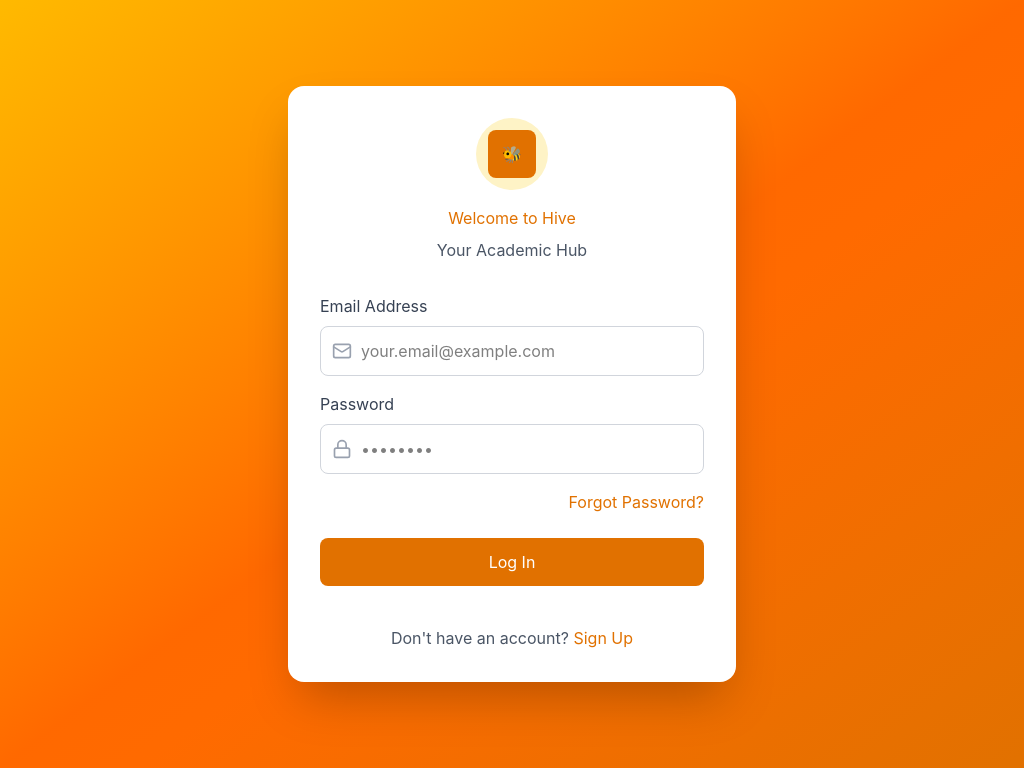
Test case: LoginPage Component › Login Flow › should show loading state during login
Type "test@example.com" into the field labelled "Email Address" at [512, 351], box left=320, top=326, right=704, bottom=376
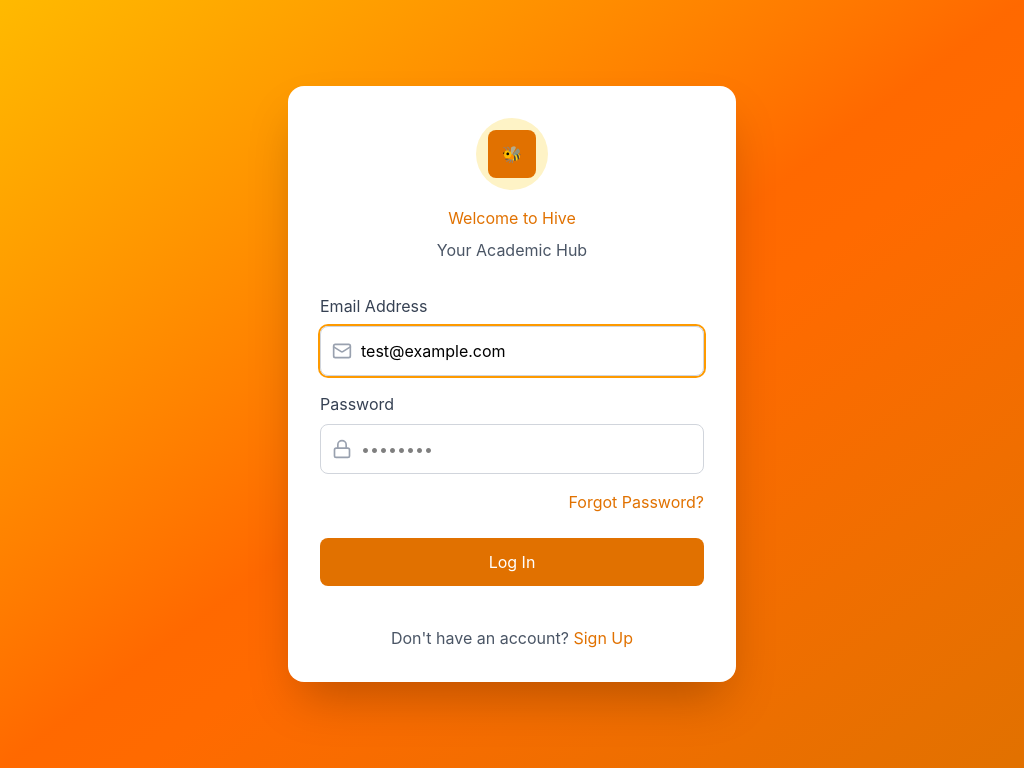
Type "password123" into the password field labelled "Password" at [512, 449], box left=320, top=424, right=704, bottom=474
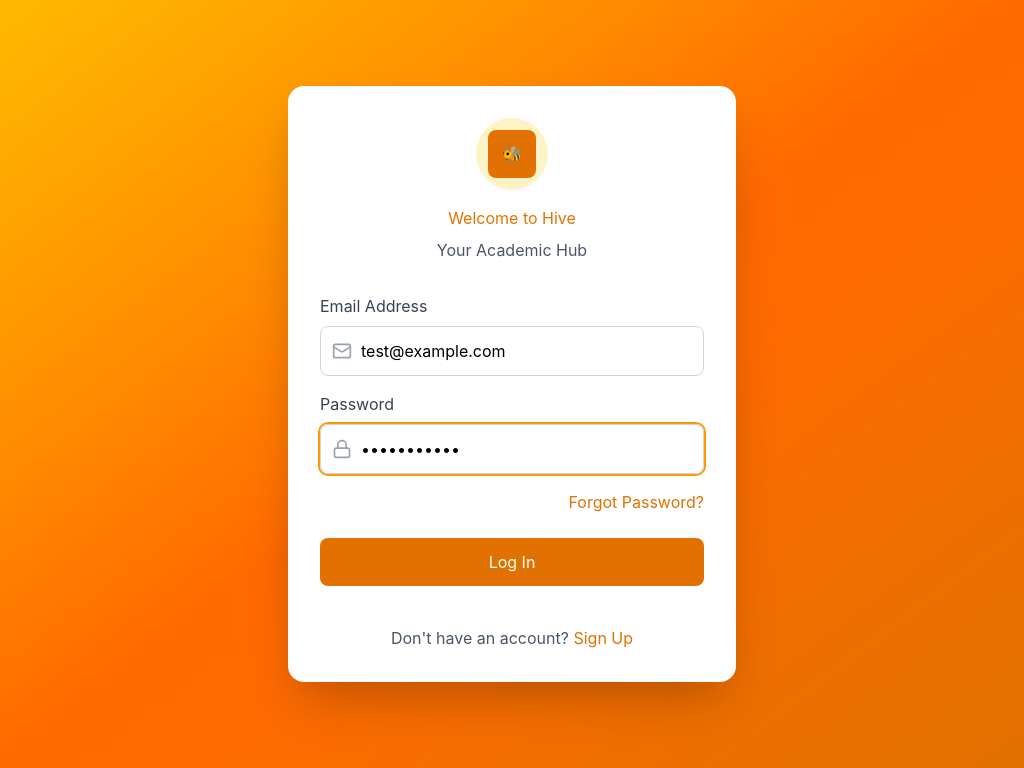
Click the button "Log In" at [512, 562], box left=320, top=538, right=704, bottom=586
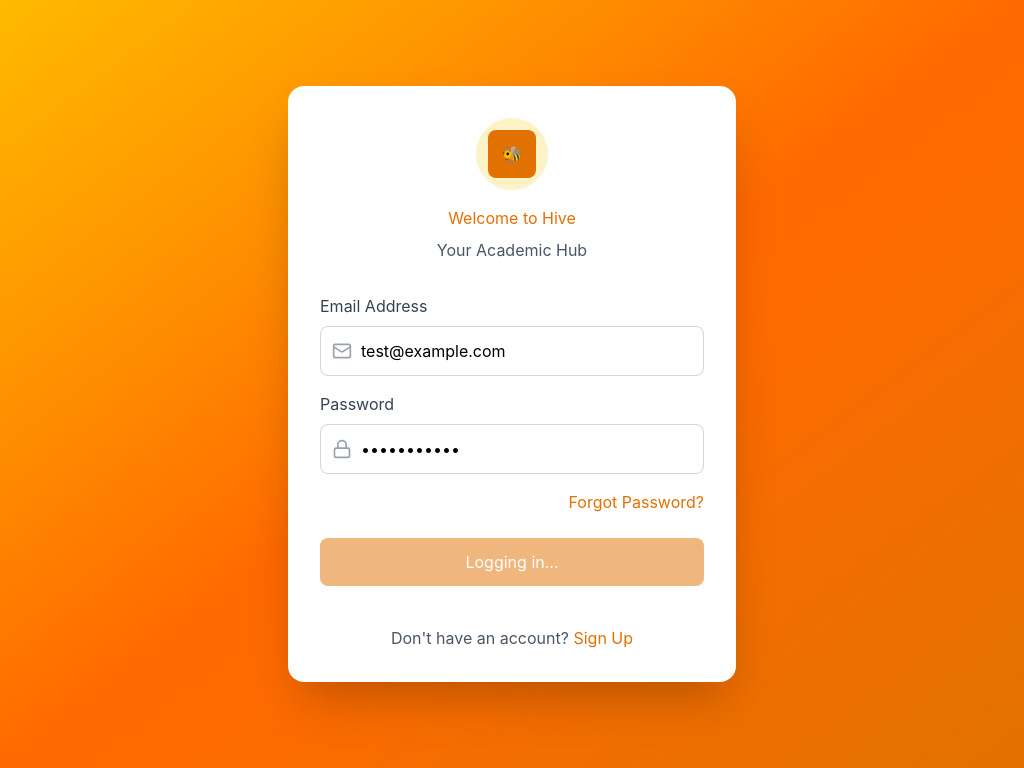
Expected: the button "Logging in..." is disabled, left=320, top=538, right=704, bottom=586
